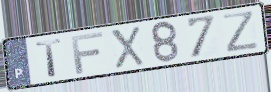7: (186, 13, 218, 61)
8: (150, 20, 180, 65)
F: (70, 30, 106, 76)
T: (34, 37, 65, 79)
X: (108, 25, 147, 71)
Z: (221, 9, 262, 55)
